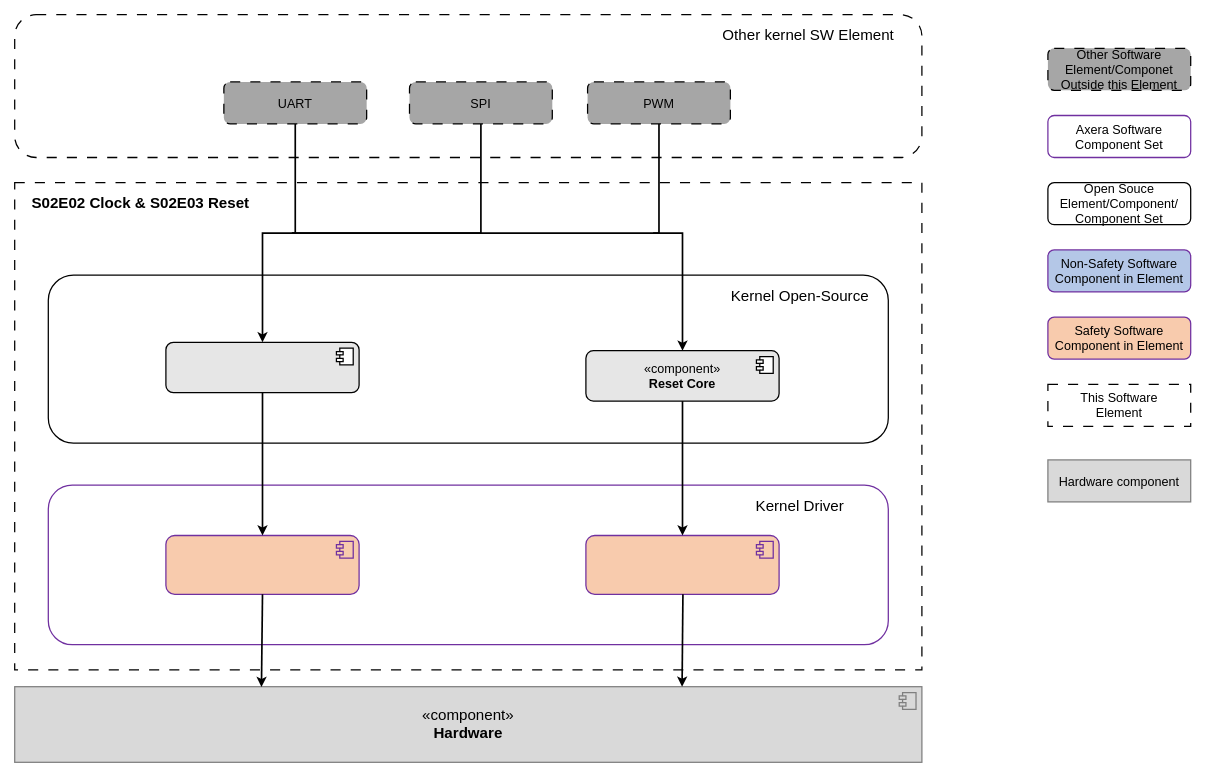
The diagram is 1206 pixels wide and 778 high, and some of its shapes have lost their labels. Here are the shapes that lost their labels. From the top down, the centre of each, then its label:
At pixel 262 367: "«component » CCF".
At pixel 262 564: "«component » S02E02C01 Kernel Clock Driver".
At pixel 682 564: "«component » S02E03C01 Kernel Reset Driver".
